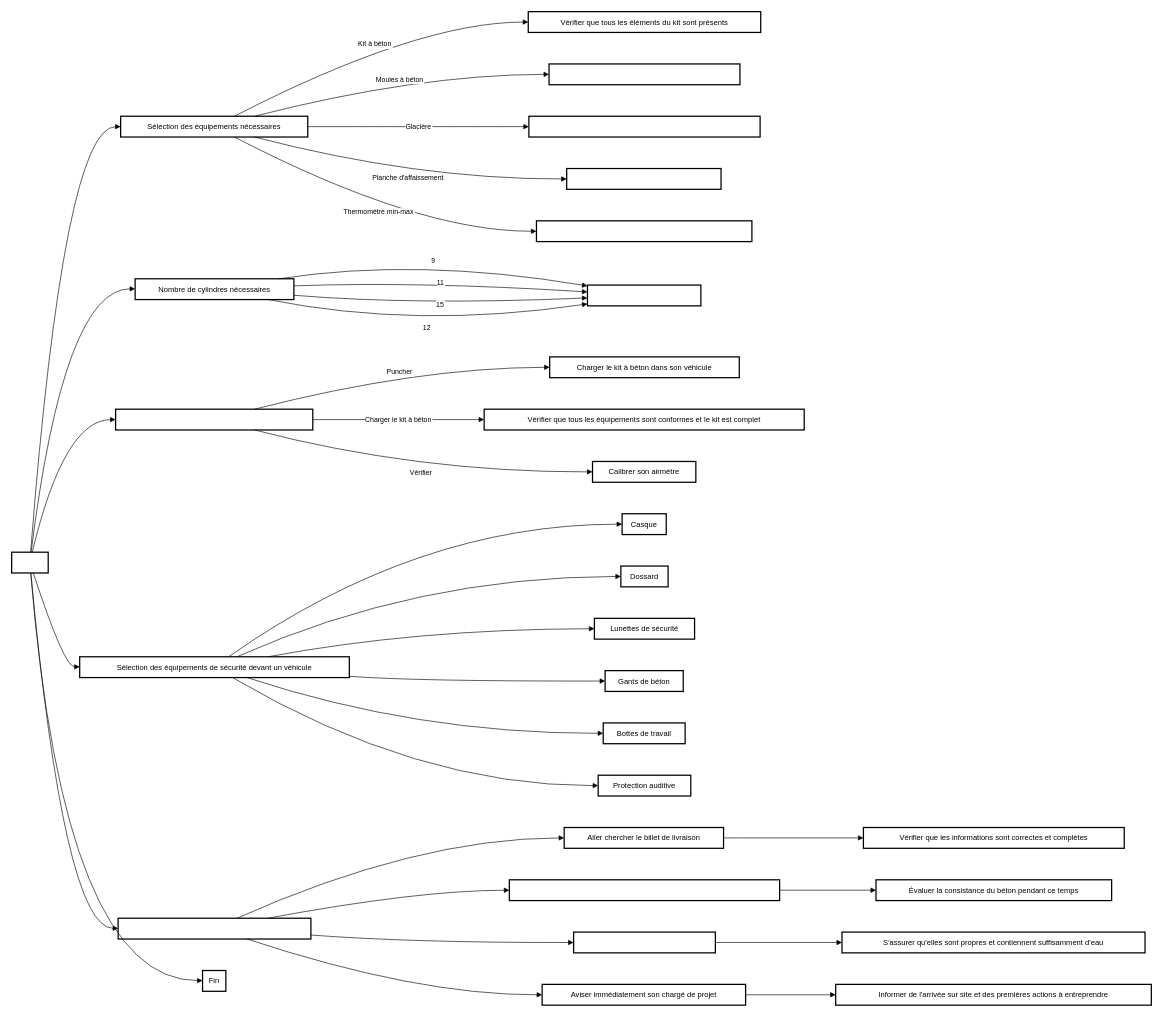
Image size: 1162x1016. Some labels were removed from this diagram. Here are the shapes that lost their labels. From the top down, the centre of each, then its label:
At [644,74]: "Vérifier l'état des moules et leur propreté".
At [644,126]: "S'assurer qu'elle est propre et prête à être utilisée".
At [643,179]: "Vérifier sa stabilité et sa planéité".
At [644,231]: "Vérifier son étalonnage et son fonctionnement".
At [644,295]: "Puncher sur sa tablette".
At [214,419]: "Première action avant de quitter le bureau".
At [30,562]: "Début".
At [644,890]: "Attendre le premier 10 % avant de prendre son échantillon".
At [214,928]: "Première action à l'arrivée sur le chantier".
At [644,942]: "Remplir vos chaudières d'eau".
